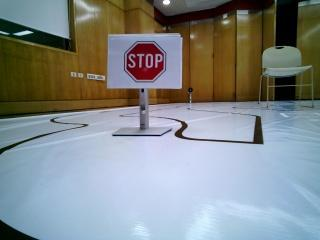stop: (113, 37, 176, 90)
